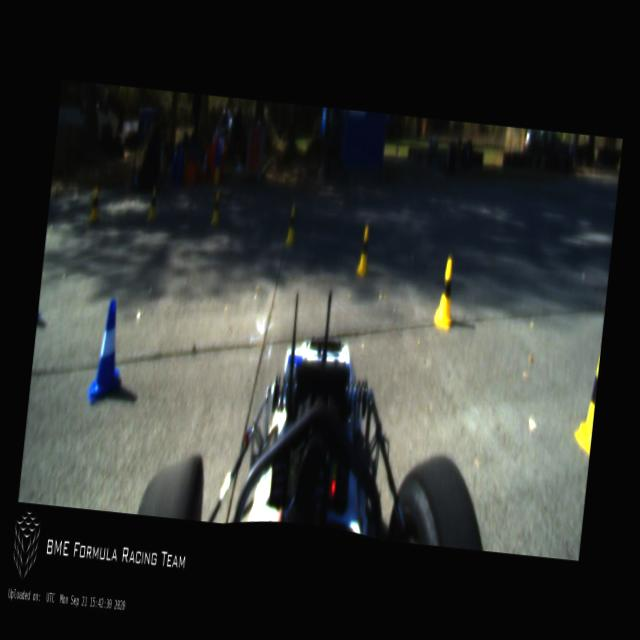blue_cone: (85, 297, 128, 407)
yellow_cone: (572, 348, 600, 457), (433, 258, 458, 330), (354, 224, 372, 278), (284, 204, 298, 248), (88, 186, 101, 223), (210, 190, 222, 226), (147, 185, 159, 221)
